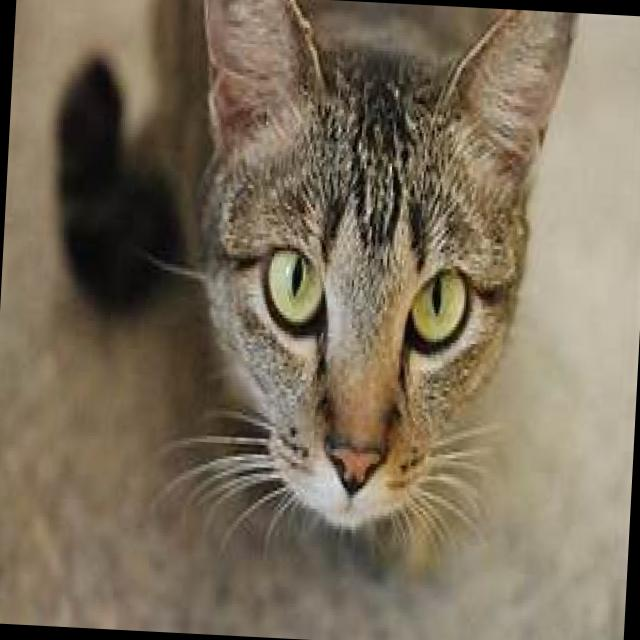cat: (34, 0, 584, 585)
